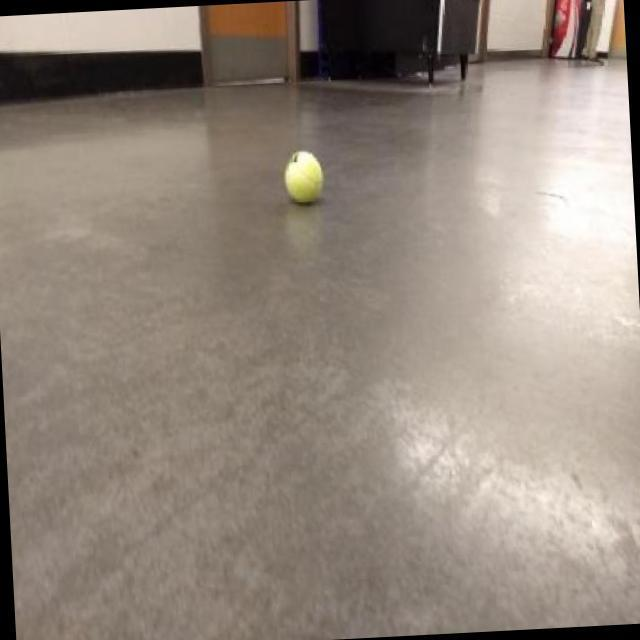-: (282, 138, 349, 227)
